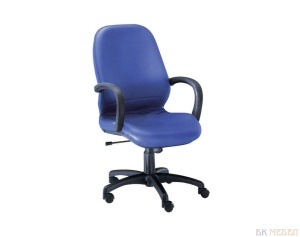chair: (92, 24, 210, 213)
